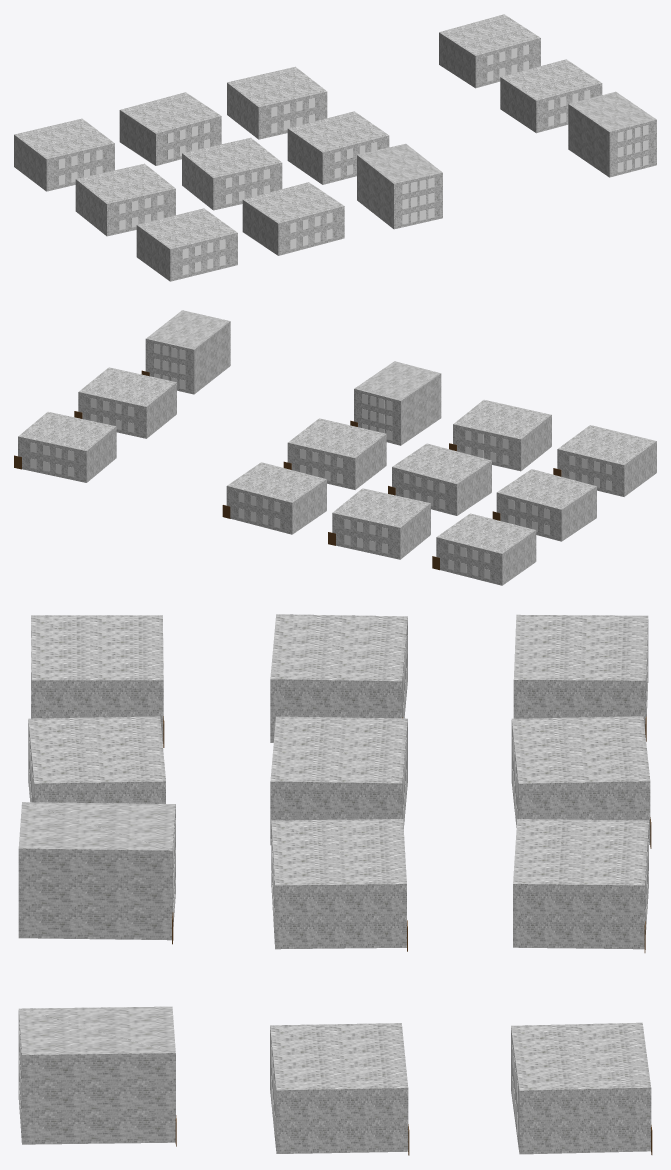
File: bld_mlmuw4pg_kx08uwl.glb
3 views of the same model, one above another, from view 1: azimuth 30°, elevation 25°; view 2: azimuth 150°, elevation 25°; view 3: azimuth 270°, elevation 25° (orthographic). The views are drawn at different scales.
Parts seen in each view (by area): view 1: building-building-1771106171383-14, building-building-1771106171383-11, building-building-1771106171383-12, building-building-1771106171383-10, building-building-1771106171383-4, building-building-1771106171382-1, building-building-1771106171383-2, building-building-1771106171382-0, building-building-1771106171383-5, building-building-1771106171383-6, building-building-1771106171383-9, building-building-1771106171383-7; view 2: building-building-1771106171382-0, building-building-1771106171383-2, building-building-1771106171383-12, building-building-1771106171383-4, building-building-1771106171382-1, building-building-1771106171383-14, building-building-1771106171383-5, building-building-1771106171383-6, building-building-1771106171383-10, building-building-1771106171383-7, building-building-1771106171383-11, building-building-1771106171383-9; view 3: building-building-1771106171383-14, building-building-1771106171383-12, building-building-1771106171383-4, building-building-1771106171383-9, building-building-1771106171383-2, building-building-1771106171383-7, building-building-1771106171382-1, building-building-1771106171383-5, building-building-1771106171383-6, building-building-1771106171382-0, building-building-1771106171383-10, building-building-1771106171383-11.
Boxes of the visible parts, x1=… form: building-building-1771106171383-14: x1=568, y1=91, x2=656, y2=177; building-building-1771106171383-11: x1=242, y1=182, x2=344, y2=255; building-building-1771106171383-12: x1=357, y1=143, x2=442, y2=229; building-building-1771106171383-10: x1=136, y1=208, x2=237, y2=281; building-building-1771106171383-4: x1=439, y1=14, x2=540, y2=88; building-building-1771106171382-1: x1=119, y1=92, x2=221, y2=165; building-building-1771106171383-2: x1=227, y1=66, x2=327, y2=139; building-building-1771106171382-0: x1=14, y1=118, x2=114, y2=191; building-building-1771106171383-5: x1=75, y1=163, x2=175, y2=236; building-building-1771106171383-6: x1=182, y1=137, x2=282, y2=210; building-building-1771106171383-9: x1=500, y1=59, x2=602, y2=133; building-building-1771106171383-7: x1=287, y1=111, x2=389, y2=184; building-building-1771106171382-0: x1=432, y1=513, x2=536, y2=585; building-building-1771106171383-2: x1=222, y1=462, x2=326, y2=534; building-building-1771106171383-12: x1=350, y1=361, x2=441, y2=445; building-building-1771106171383-4: x1=14, y1=411, x2=116, y2=482; building-building-1771106171382-1: x1=328, y1=488, x2=430, y2=559; building-building-1771106171383-14: x1=141, y1=310, x2=230, y2=394; building-building-1771106171383-5: x1=492, y1=469, x2=596, y2=541; building-building-1771106171383-6: x1=388, y1=443, x2=491, y2=515; building-building-1771106171383-10: x1=553, y1=425, x2=656, y2=496; building-building-1771106171383-7: x1=283, y1=418, x2=386, y2=489; building-building-1771106171383-11: x1=449, y1=399, x2=551, y2=471; building-building-1771106171383-9: x1=74, y1=367, x2=176, y2=438; building-building-1771106171383-14: x1=18, y1=1006, x2=176, y2=1146; building-building-1771106171383-12: x1=18, y1=802, x2=175, y2=944; building-building-1771106171383-4: x1=511, y1=1022, x2=652, y2=1154; building-building-1771106171383-9: x1=270, y1=1023, x2=409, y2=1155; building-building-1771106171383-2: x1=513, y1=819, x2=648, y2=952; building-building-1771106171383-7: x1=271, y1=819, x2=407, y2=951; building-building-1771106171382-1: x1=511, y1=716, x2=651, y2=848; building-building-1771106171383-5: x1=270, y1=614, x2=407, y2=742; building-building-1771106171383-6: x1=270, y1=716, x2=407, y2=845; building-building-1771106171382-0: x1=513, y1=614, x2=648, y2=741; building-building-1771106171383-10: x1=31, y1=615, x2=164, y2=747; building-building-1771106171383-11: x1=28, y1=716, x2=165, y2=803.
Bounding box in the file's own units: 103 × 9.03 × 57.63.
Materials: 60 (12 with a texture image).
